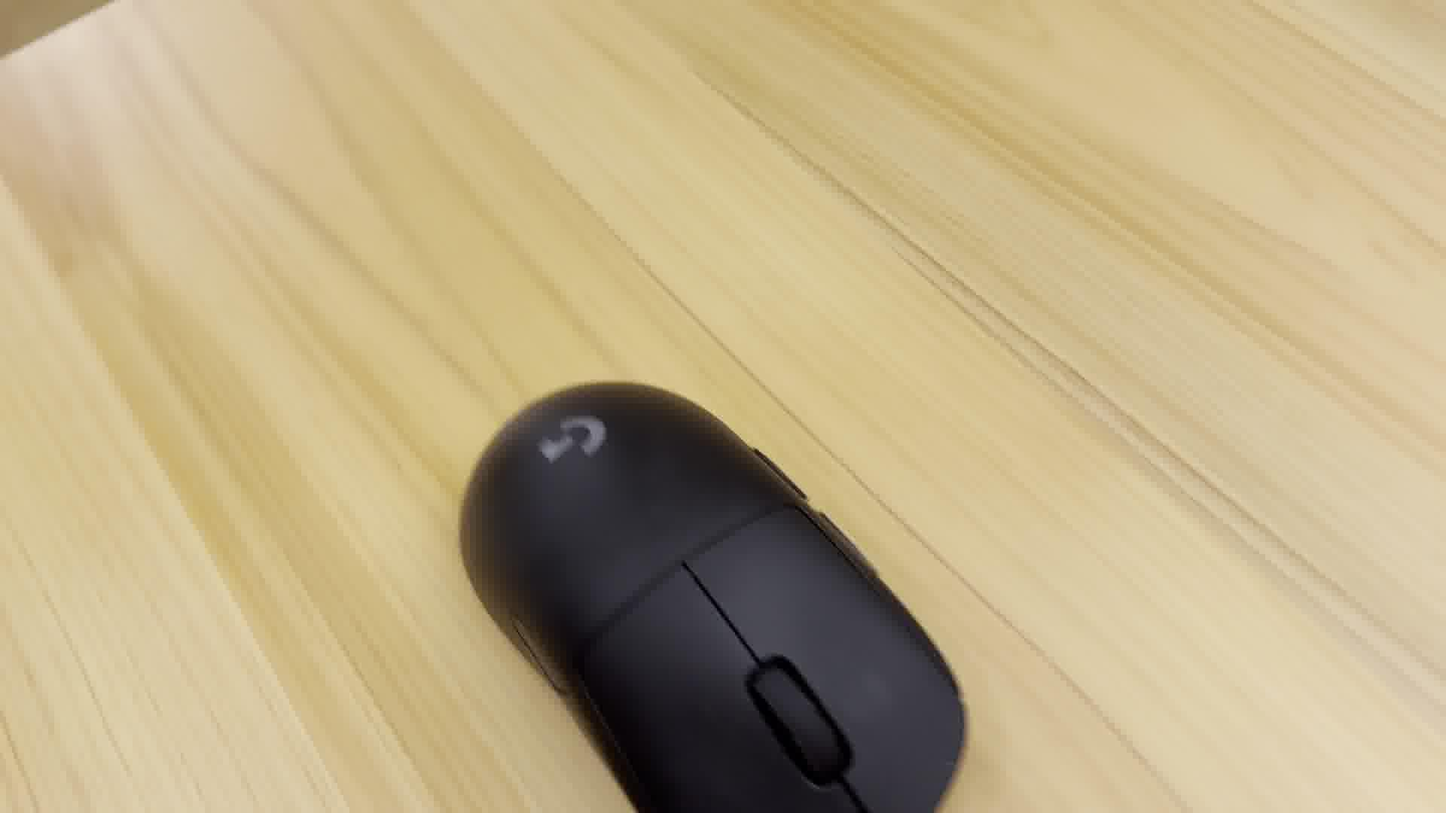mouse: (454, 372, 982, 813)
